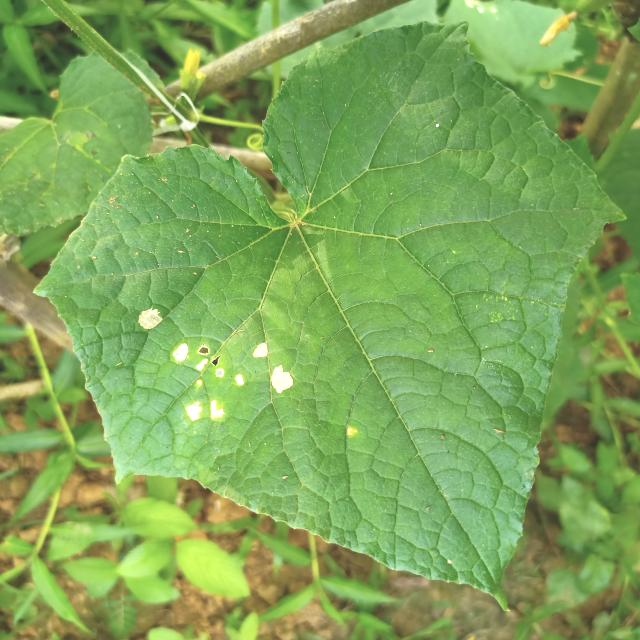disease_cucumber: (140, 305, 293, 423)
